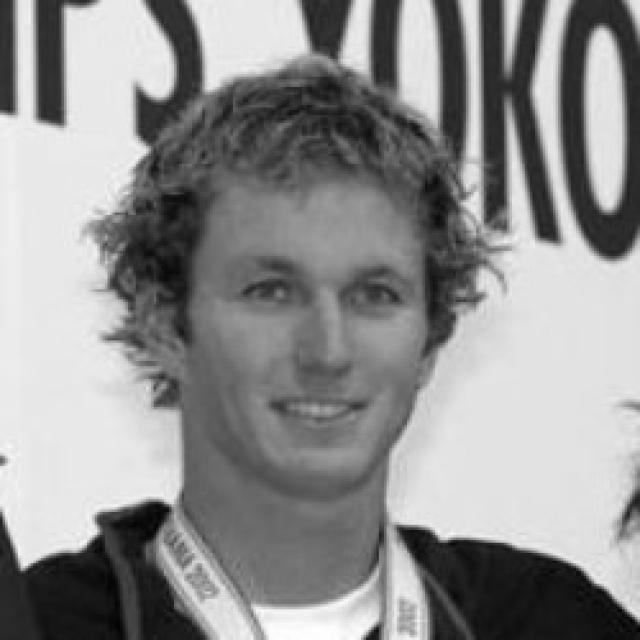real: (145, 97, 468, 490), (194, 253, 432, 332)
